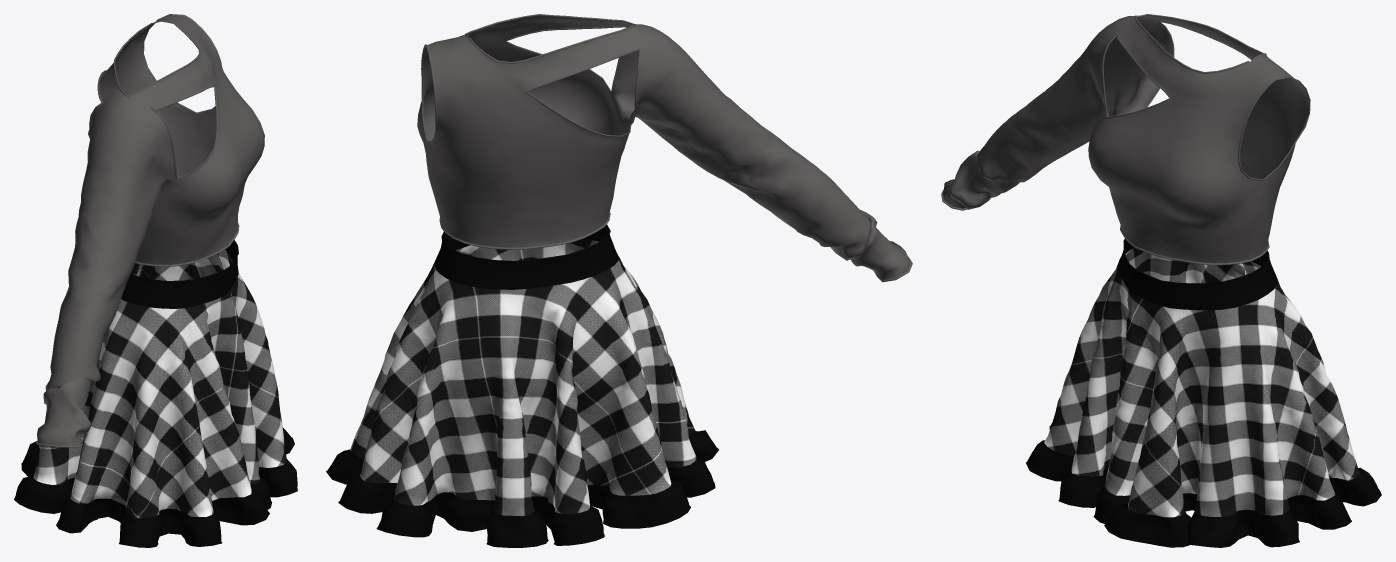
The model's file is w_casual.glb.
3 renders of one model, left to right at view 1: azimuth 30°, elevation 25°; view 2: azimuth 150°, elevation 25°; view 3: azimuth 270°, elevation 25°, orthographic. The views are drawn at different scales.
Parts seen in each view (by area): view 1: Object_4, Object_2, Object_3; view 2: Object_2, Object_4, Object_3; view 3: Object_2, Object_4, Object_3.
Boxes of the visible parts, x1=… form: Object_4: x1=36, y1=14, x2=264, y2=447; Object_2: x1=33, y1=250, x2=286, y2=518; Object_3: x1=14, y1=240, x2=297, y2=547; Object_2: x1=350, y1=239, x2=696, y2=515; Object_4: x1=417, y1=14, x2=912, y2=282; Object_3: x1=326, y1=224, x2=718, y2=547; Object_2: x1=1044, y1=248, x2=1359, y2=517; Object_4: x1=941, y1=14, x2=1310, y2=265; Object_3: x1=1026, y1=239, x2=1381, y2=547.
Size of the model in its own units: 1.8 by 1.99 by 1.74.
Materials: 3 (1 with a texture image).
